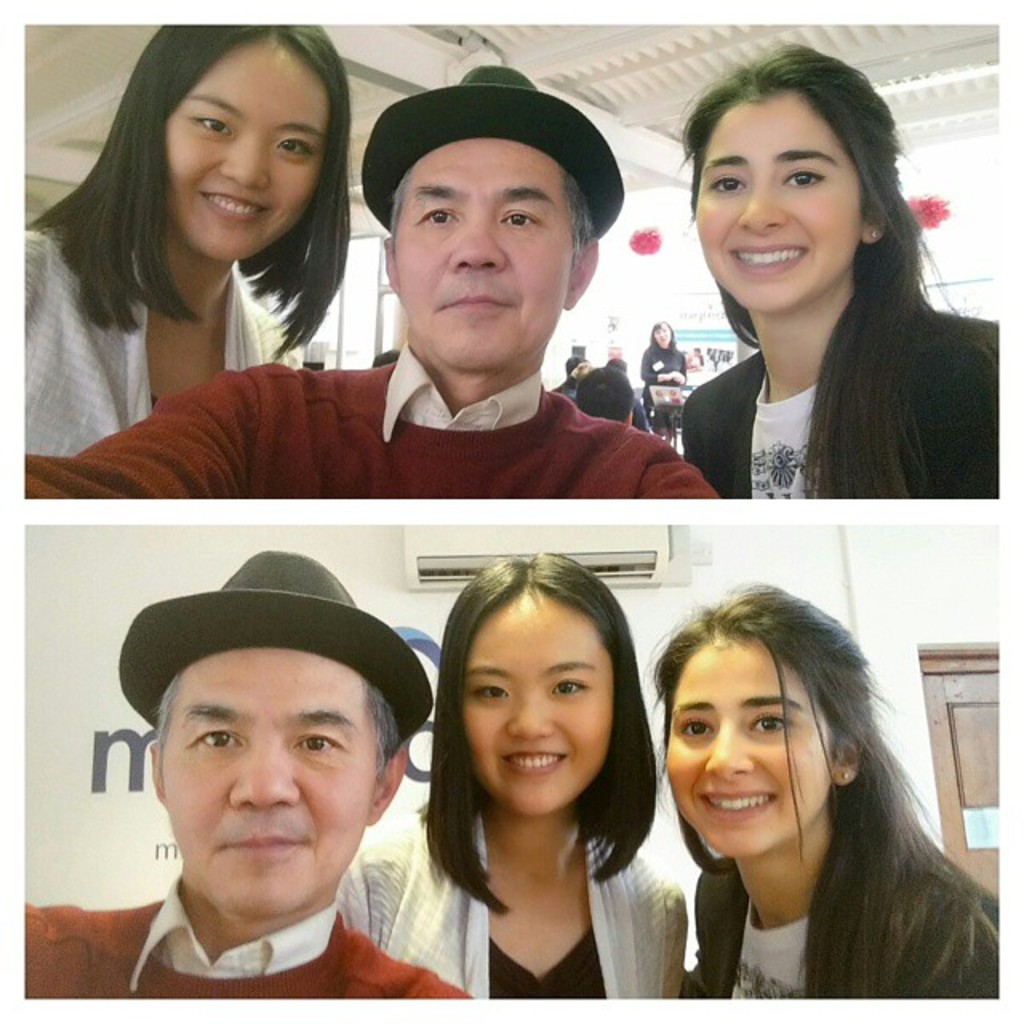Human-face: (162, 648, 384, 917), (390, 142, 576, 362), (461, 584, 618, 819), (662, 640, 826, 858), (698, 88, 858, 310), (163, 46, 318, 253), (659, 331, 670, 349)
